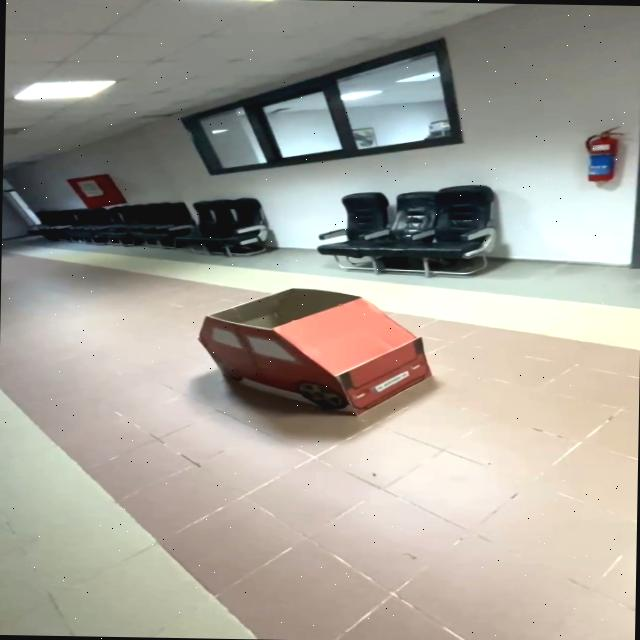red_car: (178, 267, 484, 427)
